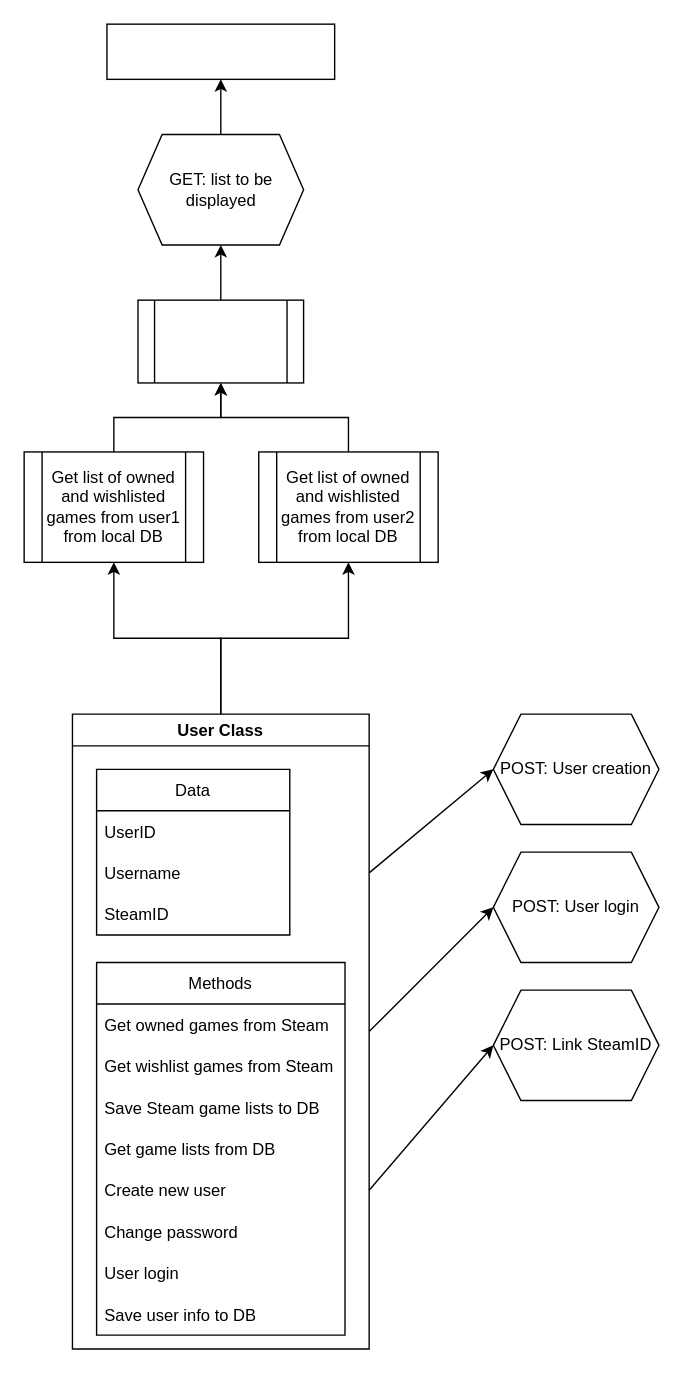
This 683x1373 diagram has some shape labels left out. Here are the shapes that lost their labels. From the top down, the centre of each, then its label:
the point at 220,51: Display common items between 2 lists
the point at 220,341: Create new list with common elements of 2 input lists
